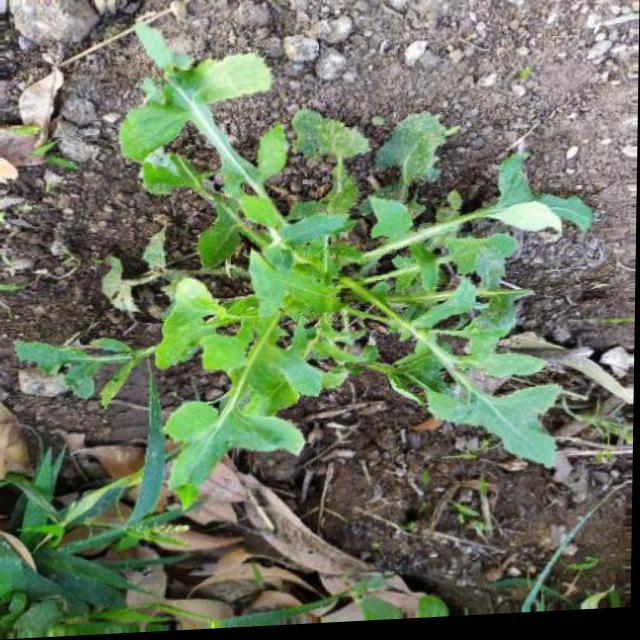weed: (93, 34, 588, 522)
